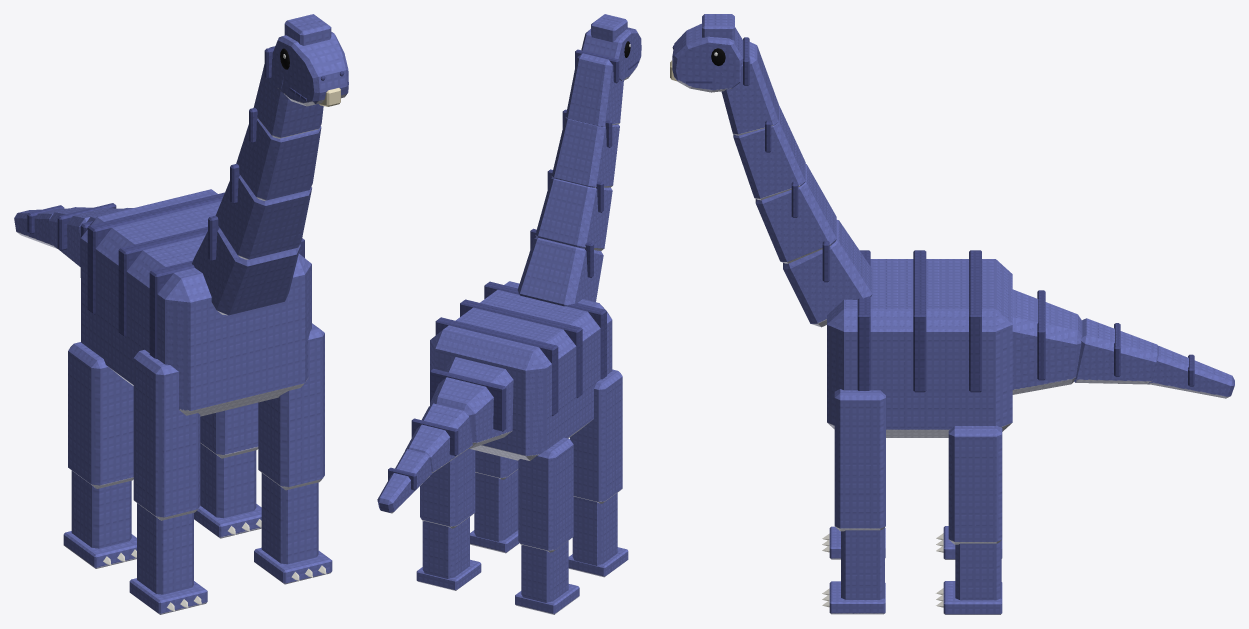
File: 12_Brachiosaurus.glb
3 views of the same model, side by side, from view 1: azimuth 30°, elevation 25°; view 2: azimuth 150°, elevation 25°; view 3: azimuth 270°, elevation 25° (orthographic). The views are drawn at different scales.
Parts seen in each view (by area): view 1: 12_Brachiosaurus; view 2: 12_Brachiosaurus; view 3: 12_Brachiosaurus.
Part boxes in pixels (x1,y1,x2,y2): 12_Brachiosaurus: (14, 14, 348, 614); 12_Brachiosaurus: (377, 14, 641, 614); 12_Brachiosaurus: (670, 14, 1234, 614).
Size of the model in its own units: 5.37 by 17.99 by 16.52.
1 material, 1 textured.
